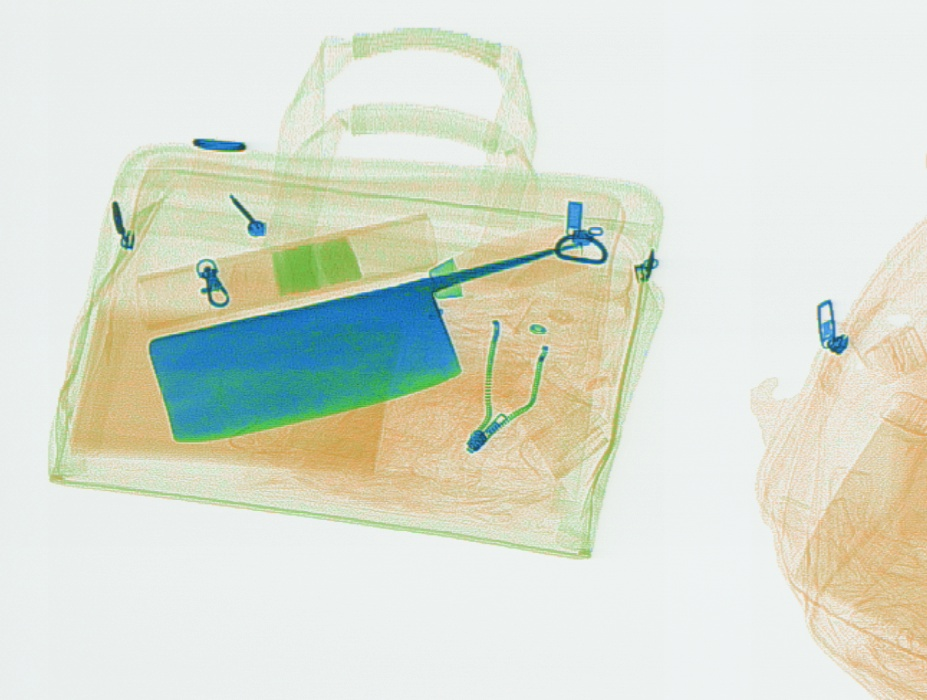firecrackers: (130, 210, 439, 330)
knife: (144, 221, 588, 445)
